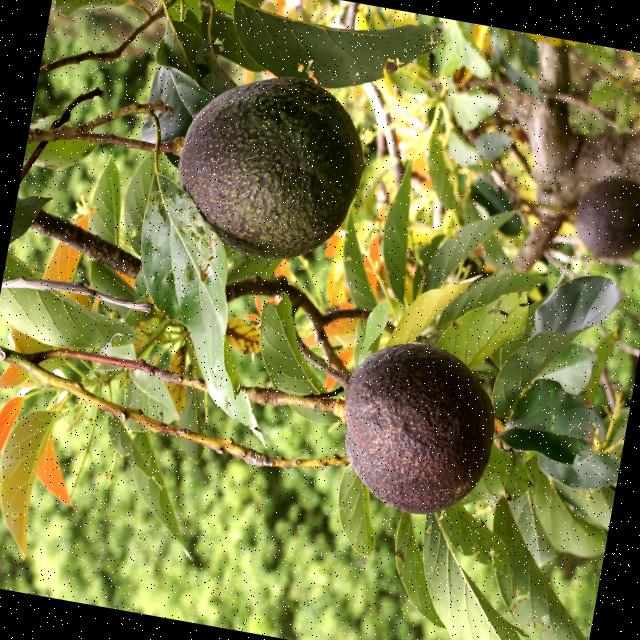fruit: (345, 340, 495, 514)
leaf: (386, 270, 623, 640), (141, 152, 265, 446), (229, 0, 443, 88)
occludedfruit: (178, 75, 363, 258), (576, 178, 640, 257)
occludedpeduncle: (47, 349, 208, 389), (75, 132, 155, 149)
peduncle: (249, 386, 344, 417)
